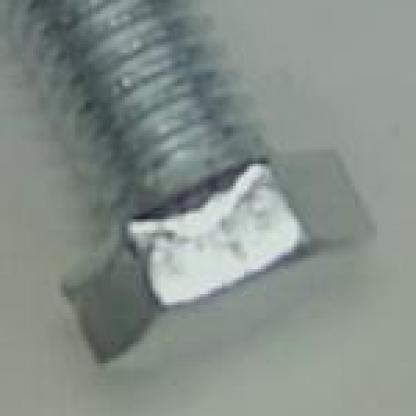FOD: (8, 3, 391, 396)
